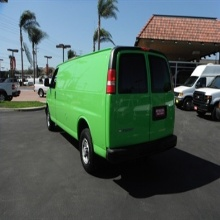no damage: (43, 47, 178, 171), (173, 64, 220, 121), (1, 77, 20, 102)
